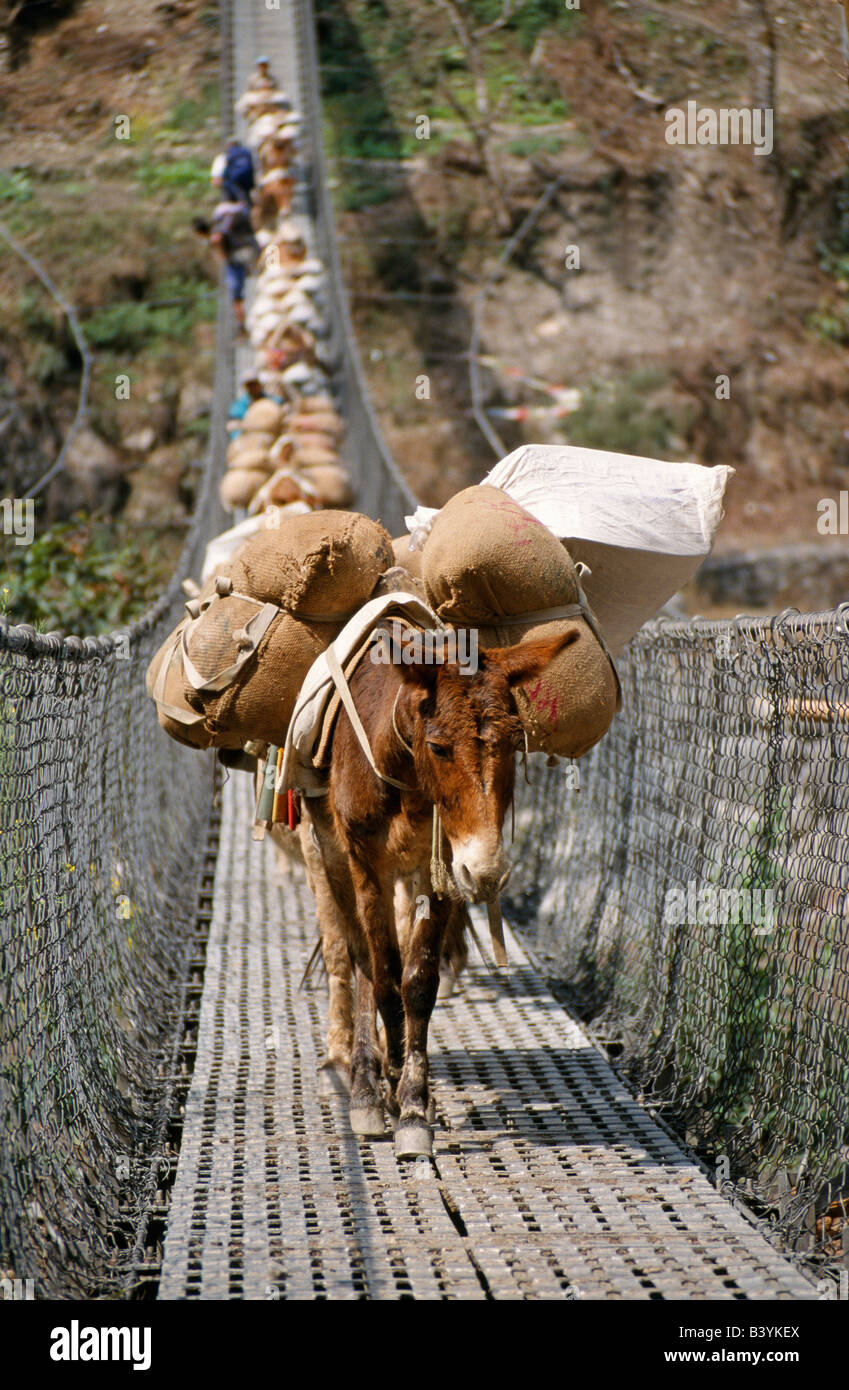equine: (230, 553, 603, 1160)
human: (184, 193, 263, 330), (195, 118, 264, 213)
